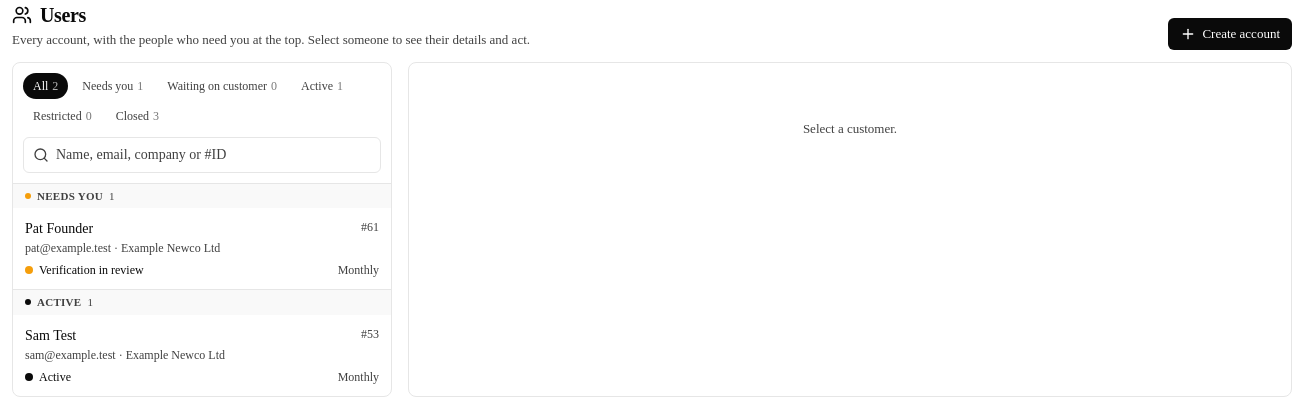
it: Admin › Customers › opens on every account, with the to-do lists as tabs and counts
This screenshot has width=1304, height=414.
Expected: the text "Pat Founder" is shown, [25,218,93,239]
Expected: the text "Sam Test" is shown, [25,324,76,346]
Click the button named "Needs you 1". click: (113, 86)
box: [72,72,153,98]
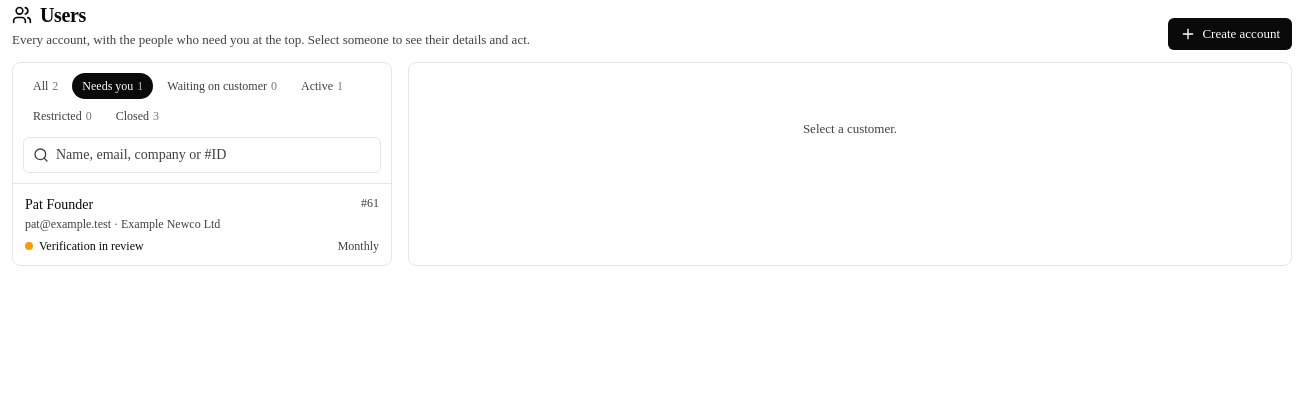
Expected: the button "Sam Test" is gone
